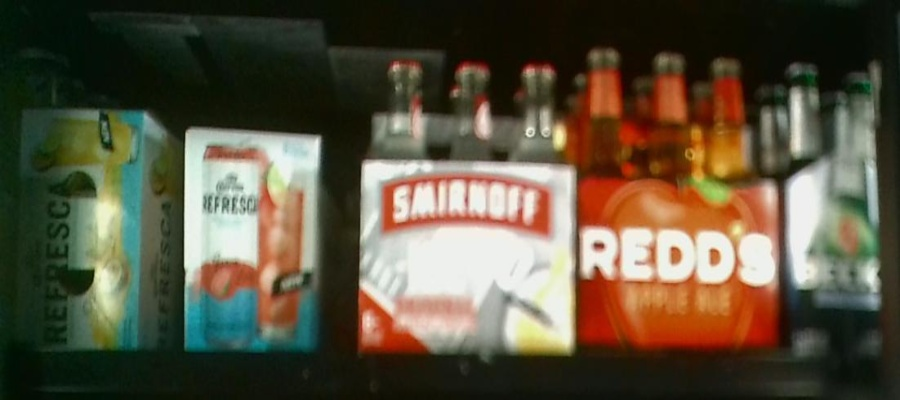bottle: (358, 59, 578, 353), (577, 47, 780, 352), (12, 102, 185, 352), (184, 122, 321, 350)
